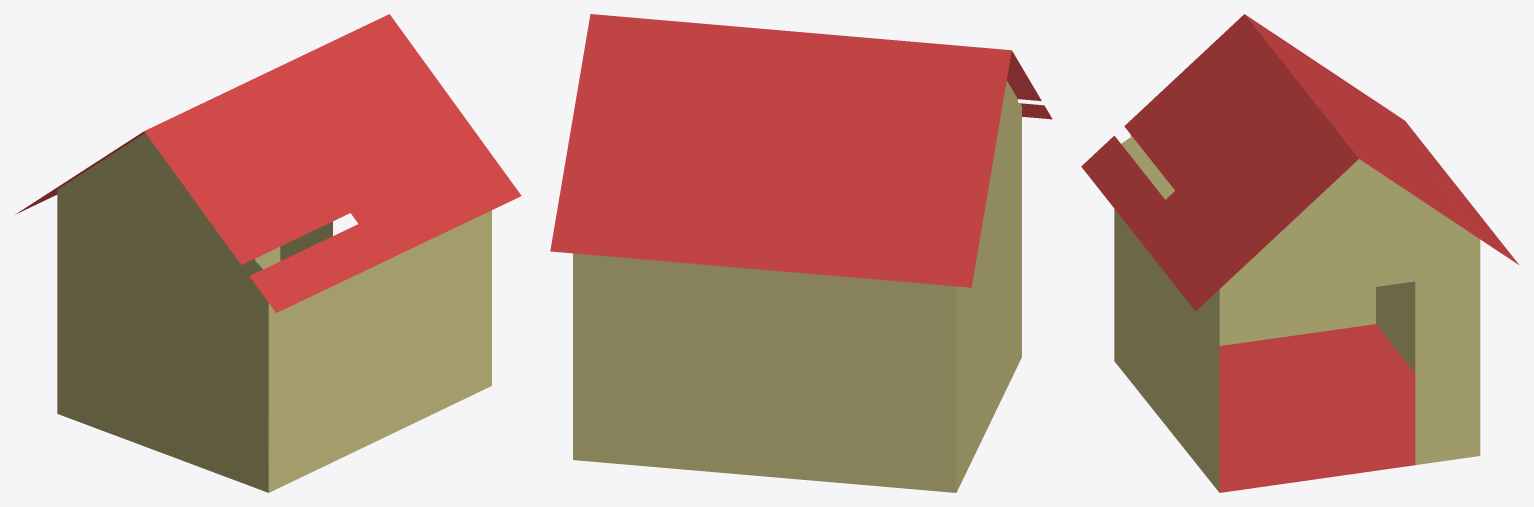
The picture shows the model from 3 angles, left to right: view 1: azimuth 30°, elevation 25°; view 2: azimuth 150°, elevation 25°; view 3: azimuth 270°, elevation 25°; orthographic projection. The views are drawn at different scales.
Size of the model in its own units: 14.68 by 14.27 by 11.46.
